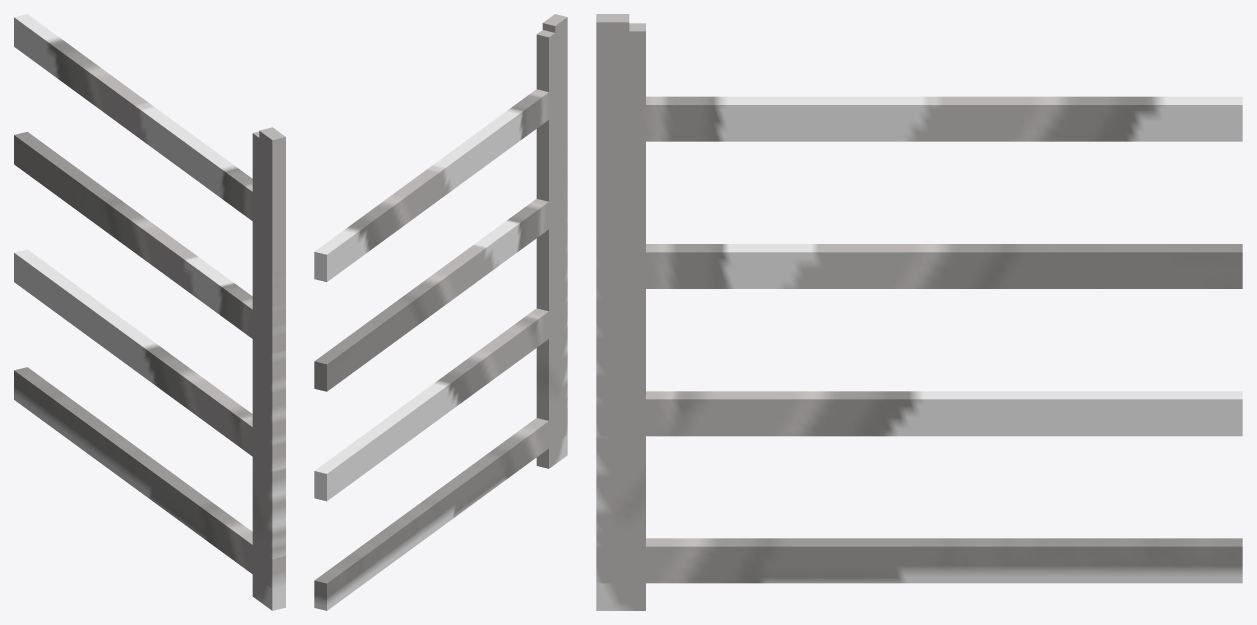
File: rail.obj
3 views of the same model, side by side, from view 1: azimuth 30°, elevation 25°; view 2: azimuth 150°, elevation 25°; view 3: azimuth 270°, elevation 25° (orthographic). The views are drawn at different scales.
Bounding box in the file's own units: 0.03 × 1 × 0.9951.
